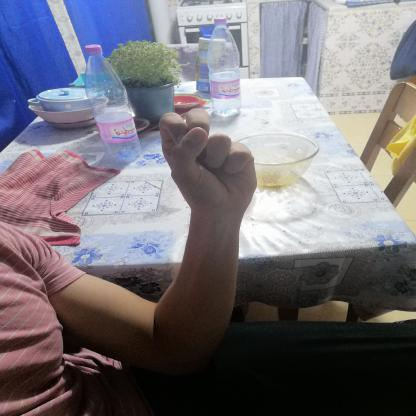QAAF: (148, 101, 272, 223)
